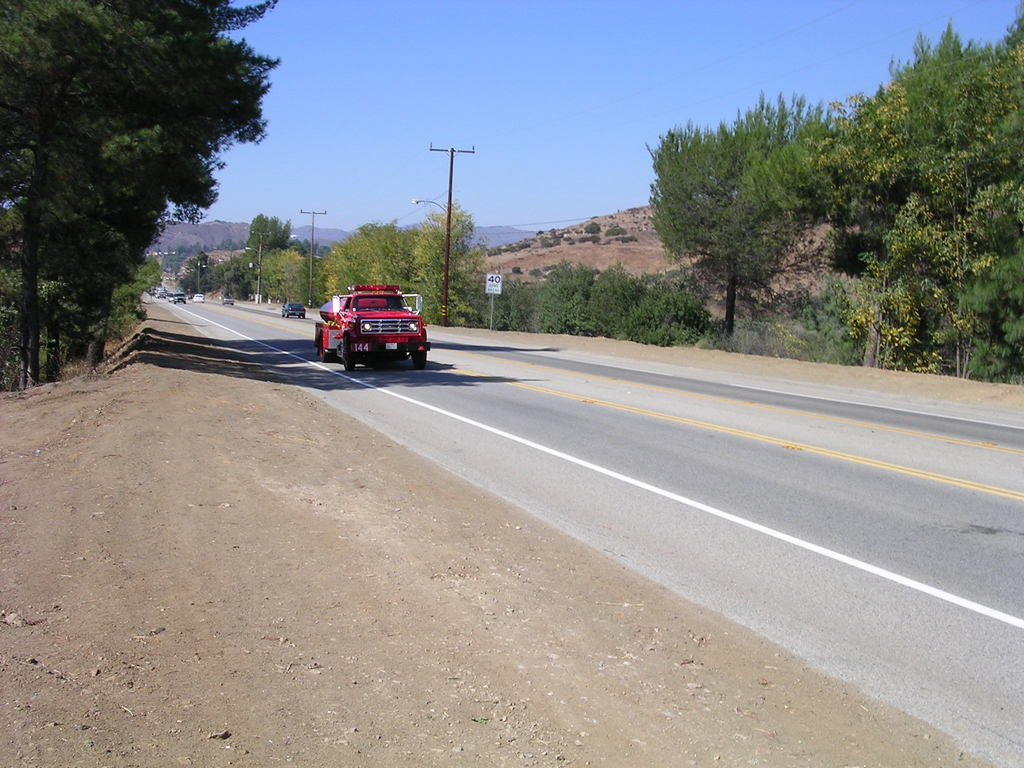car: (275, 300, 308, 321)
truck: (311, 283, 439, 373)
